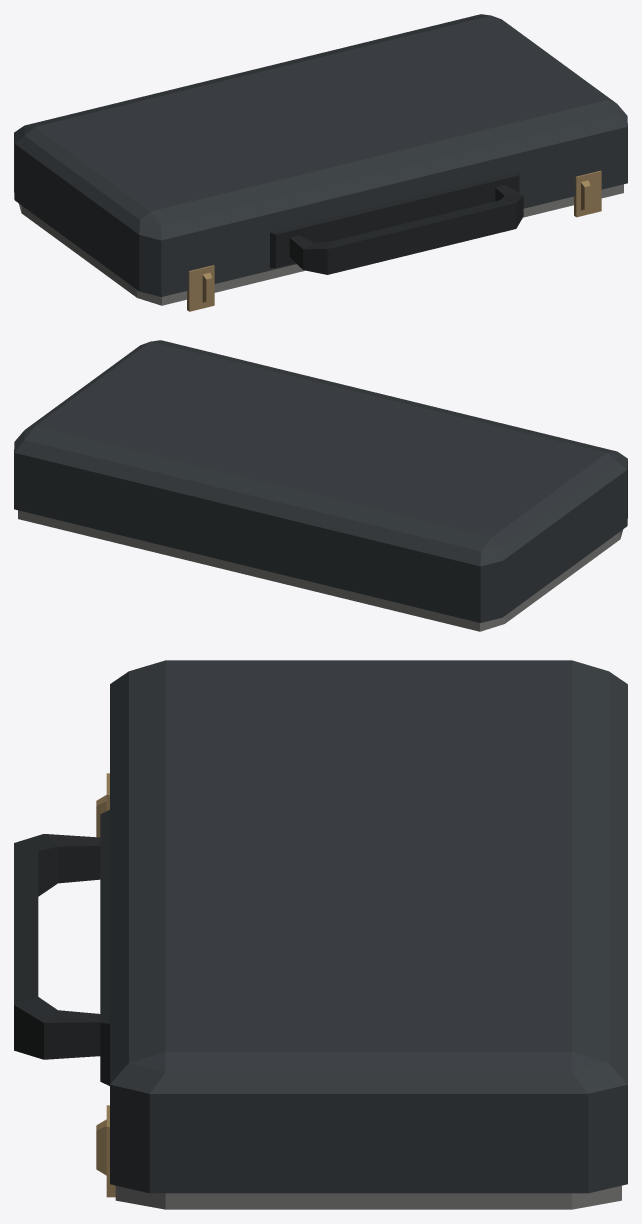
The model's file is SM_Prop_WeaponCase_01_Lid.glb.
3 views of the same model, one above another, from view 1: azimuth 30°, elevation 25°; view 2: azimuth 150°, elevation 25°; view 3: azimuth 270°, elevation 25° (orthographic). The views are drawn at different scales.
Visible parts, largest first — view 1: SM_Prop_WeaponCase_01_Lid; view 2: SM_Prop_WeaponCase_01_Lid; view 3: SM_Prop_WeaponCase_01_Lid.
Boxes of the visible parts, <box> form: SM_Prop_WeaponCase_01_Lid: <box>14,14,627,311</box>; SM_Prop_WeaponCase_01_Lid: <box>14,340,627,631</box>; SM_Prop_WeaponCase_01_Lid: <box>14,660,627,1209</box>.
Bounding box in the file's own units: 0.7268 × 0.1328 × 0.4503.
1 material, 1 textured.
